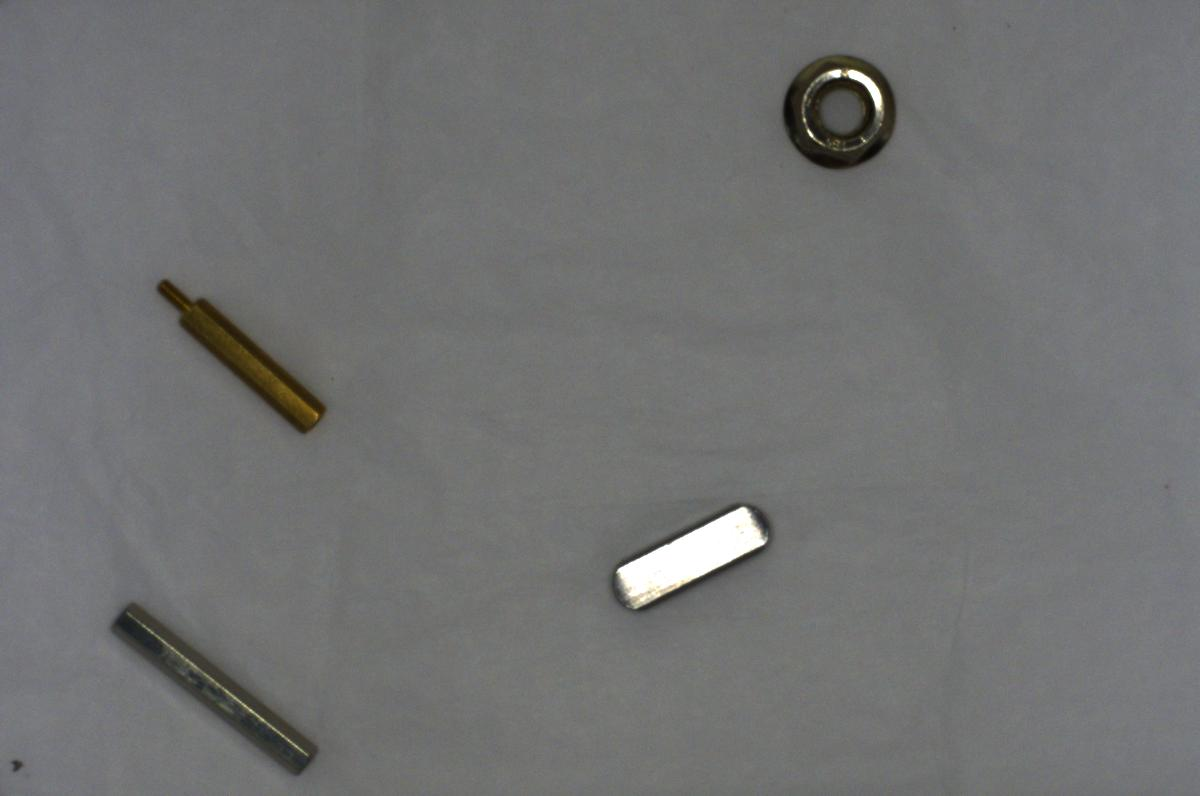Double hexagonal column: (110, 600, 319, 776)
Flange nut: (778, 47, 902, 172)
Hexagon pillar: (150, 269, 330, 438)
Keybar: (602, 494, 781, 620)
